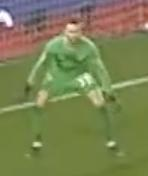goalkeeper: (22, 7, 139, 167)
